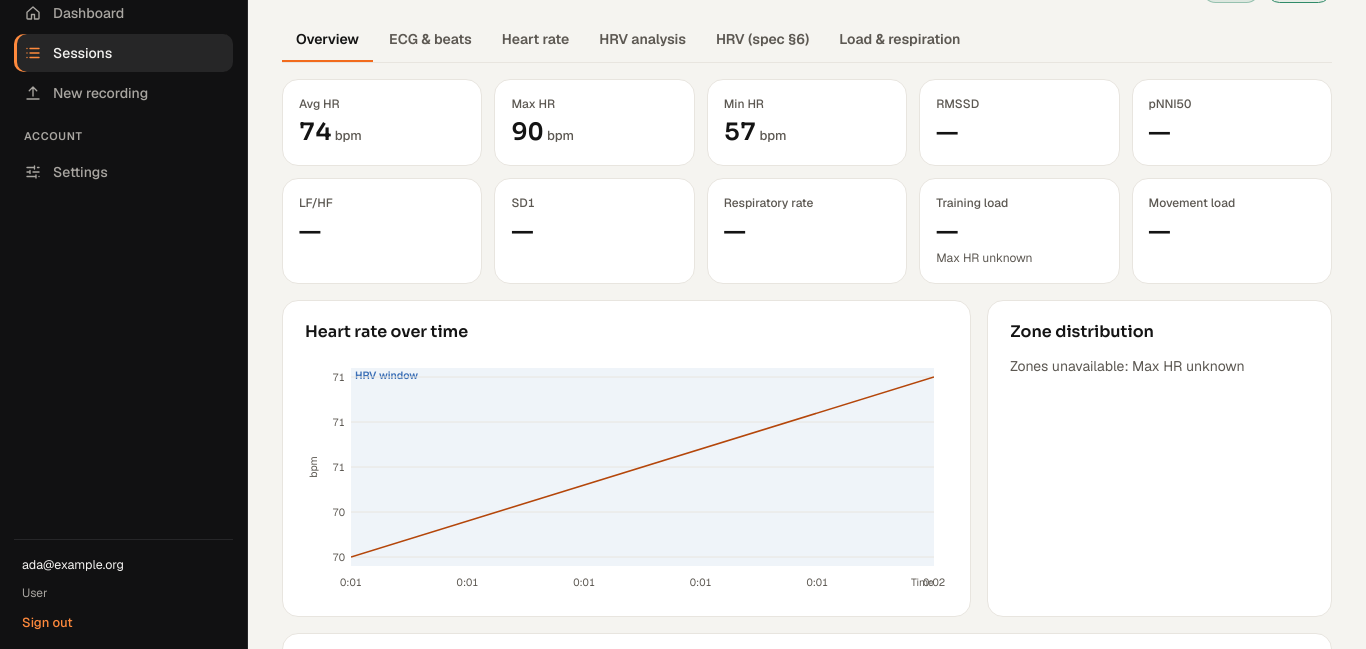
Test case: advanced HRV analysis › shows Kubios-style results computed by the backend
Click the tab "HRV analysis" at point(643, 40), box [585,18,700,62]
(page scrolled)
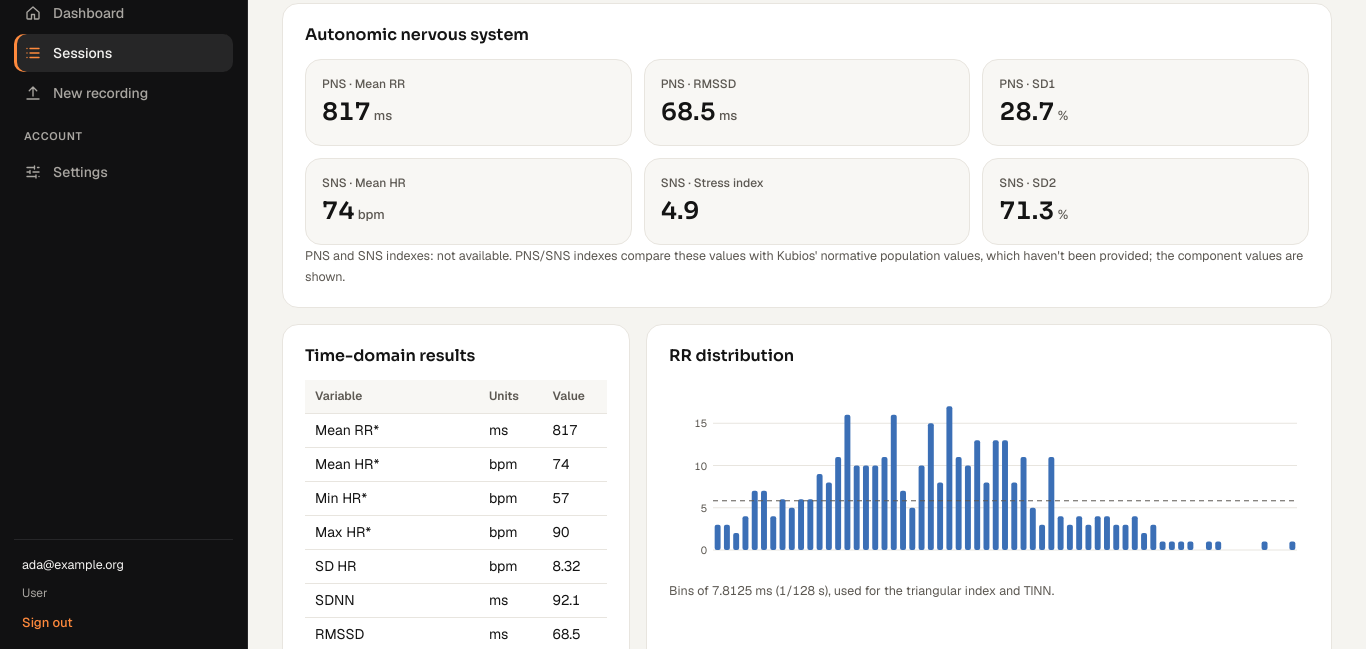
Check: the text "PNS and SNS indexes: not available" is shown, box [305,246,515,264]
